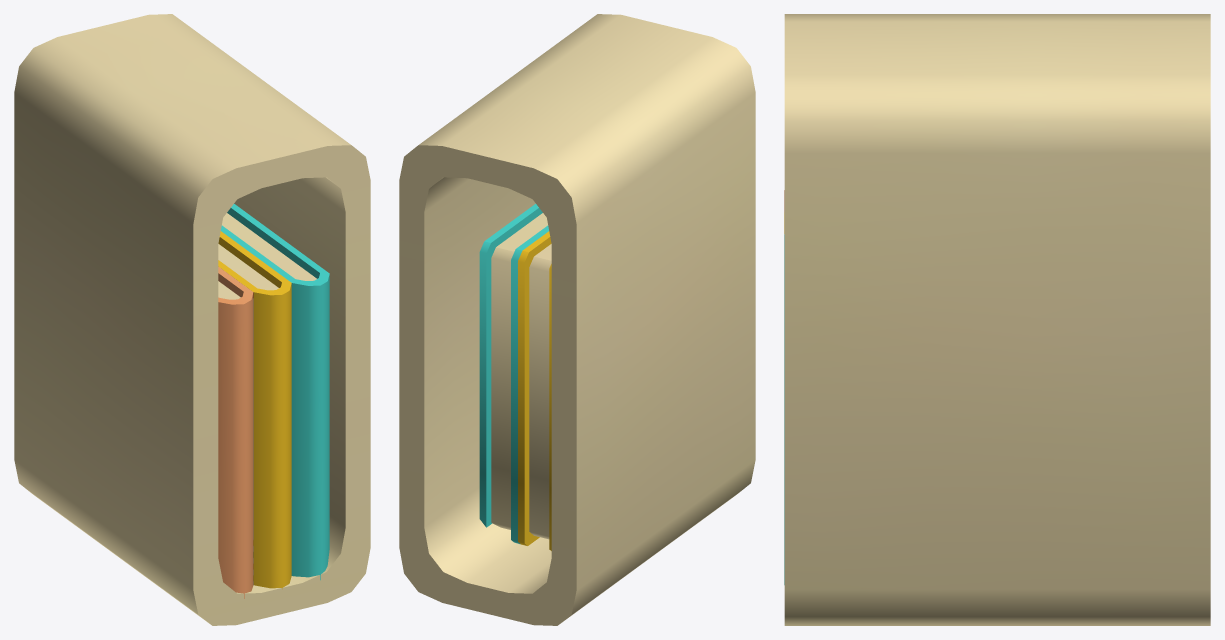
The model's file is Modular_bookshelf_part_4.FBX.
The picture shows the model from 3 angles, left to right: view 1: azimuth 30°, elevation 25°; view 2: azimuth 150°, elevation 25°; view 3: azimuth 270°, elevation 25°; orthographic projection. The views are drawn at different scales.
Visible parts, largest first — view 1: Modular_bookshelf_part_4; view 2: Modular_bookshelf_part_4; view 3: Modular_bookshelf_part_4.
Part boxes in pixels (x1,y1,x2,y2): Modular_bookshelf_part_4: (14,14,370,625); Modular_bookshelf_part_4: (399,14,755,625); Modular_bookshelf_part_4: (784,14,1210,625).
Size of the model in its own units: 13.04 by 32.13 by 22.84.
1 material, 1 textured.
